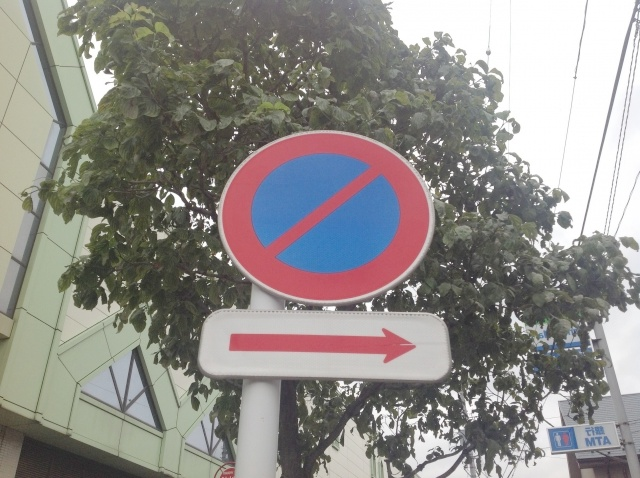Prohibition_sign: (214, 125, 447, 301)
